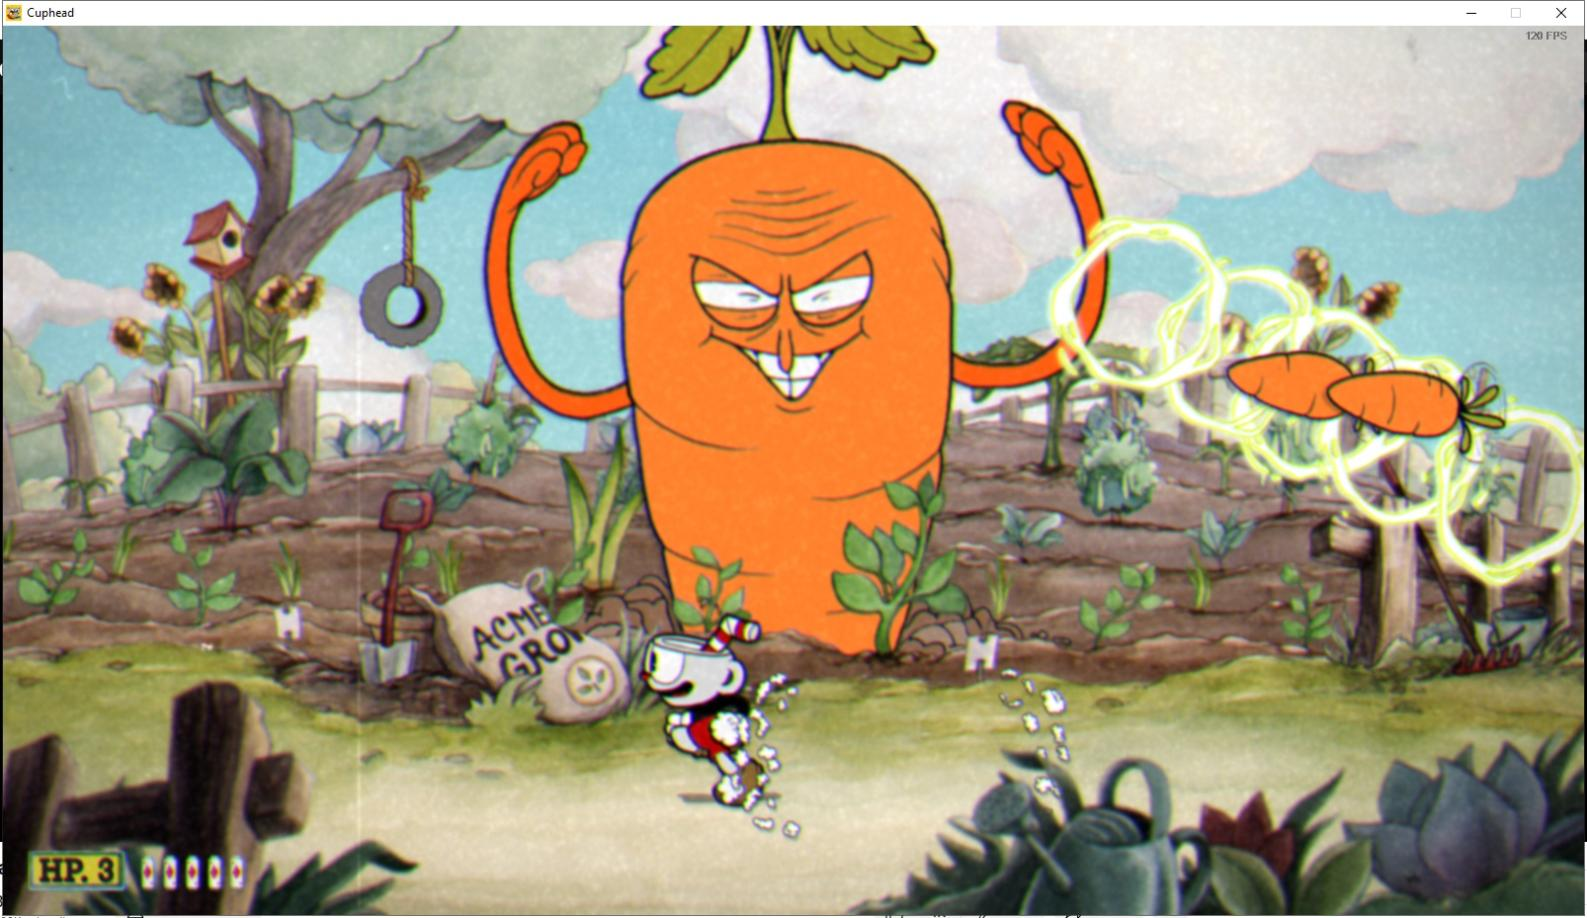carrot: (1320, 358, 1508, 458), (1216, 342, 1400, 441)
hp3: (94, 852, 124, 891)
player: (614, 603, 796, 807)
ring: (1040, 203, 1226, 390), (1316, 346, 1495, 529), (1234, 302, 1413, 483), (1427, 396, 1587, 592), (1155, 264, 1320, 446)
